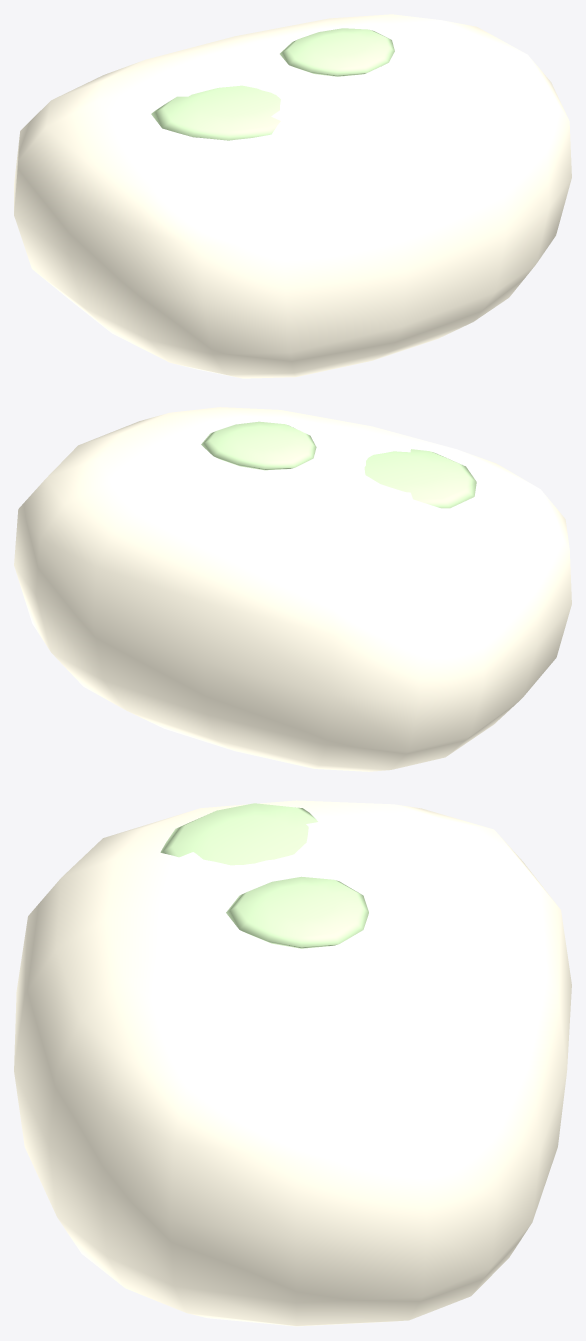
File: rock-wide.glb
The picture shows the model from 3 angles, top to bottom: view 1: azimuth 30°, elevation 25°; view 2: azimuth 150°, elevation 25°; view 3: azimuth 270°, elevation 25°; orthographic projection. The views are drawn at different scales.
Visible parts, largest first — view 1: rock-wide; view 2: rock-wide; view 3: rock-wide.
Part boxes in pixels (x1,y1,x2,y2): rock-wide: (14,14,571,378); rock-wide: (14,407,571,771); rock-wide: (14,800,571,1326).
Size of the model in its own units: 3.1 by 1.68 by 2.26.
